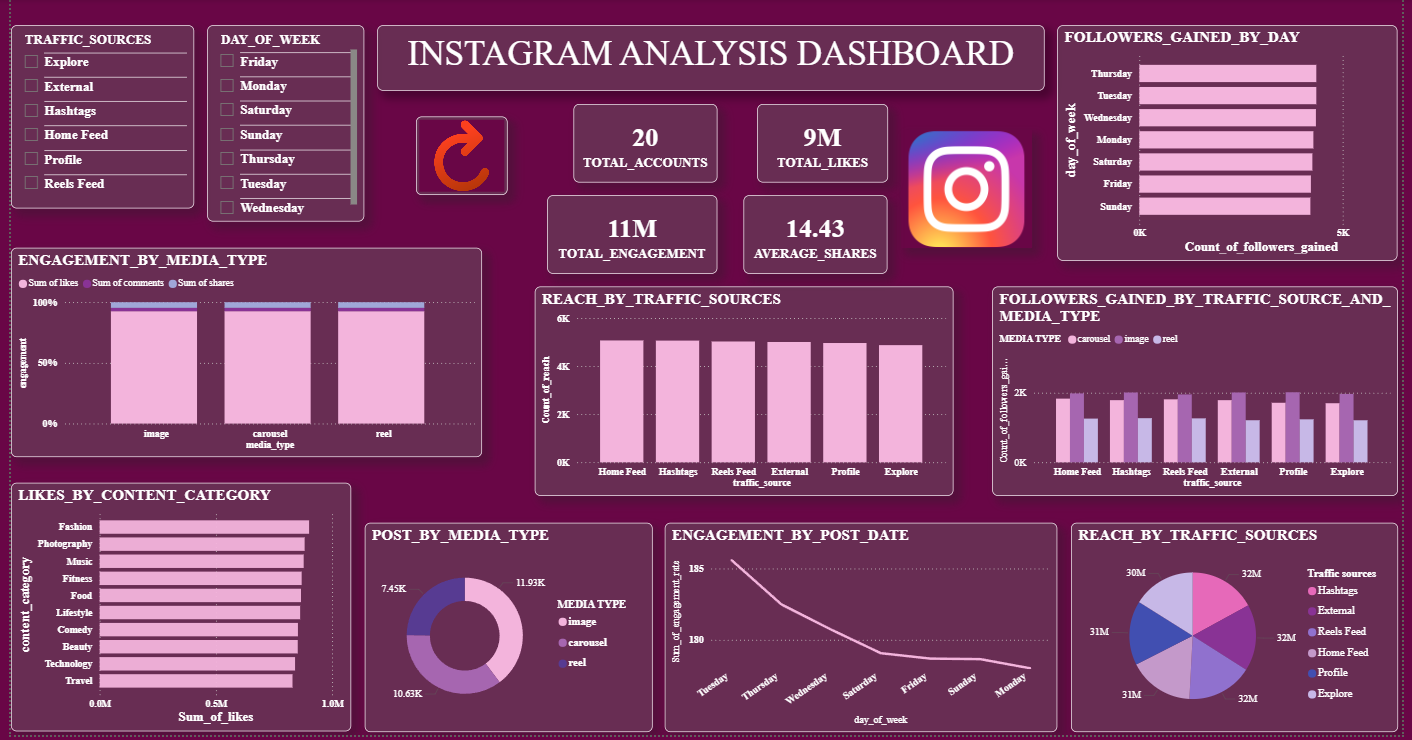

What the dashboard file says about the page in this screenshot:
{"tool":"powerbi","page":{"name":"Page 1","canvas":[1700,900],"ordinal":0},"visuals":[{"type":"textbox","box":[448,32,816,80],"z":0},{"type":"card","fields":{"Values":["Instagram_Analytics.COUNT"]},"box":[896,240,176,96],"z":1000},{"type":"card","fields":{"Values":["Instagram_Analytics.TOTAL ACCOUNTS"]},"box":[688,128,176,96],"z":2000},{"type":"barChart","title":"LIKES_BY_CONTENT_CATEGORY","fields":{"Y":["Sum(Instagram_Analytics.likes)"],"Category":["Instagram_Analytics.content_category"]},"box":[0,592,416,304],"z":3000},{"type":"clusteredColumnChart","title":"FOLLOWERS_GAINED_BY_TRAFFIC_SOURCE_AND_MEDIA_TYPE","fields":{"Category":["Instagram_Analytics.traffic_source"],"Y":["CountNonNull(Instagram_Analytics.followers_gained)"],"Series":["Instagram_Analytics.media_type"]},"box":[1200,352,496,256],"z":4000},{"type":"lineChart","title":"ENGAGEMENT_BY_POST_DATE","fields":{"Y":["Sum(Instagram_Analytics.engagement_rate)"],"Category":["Instagram_Analytics.day_of_week"]},"box":[800,640,480,256],"z":5000},{"type":"slicer","fields":{"Values":["Instagram_Analytics.traffic_source"]},"box":[0,32,224,224],"z":6000},{"type":"pieChart","title":"REACH_BY_TRAFFIC_SOURCES","fields":{"Category":["Instagram_Analytics.traffic_source"],"Y":["Sum(Instagram_Analytics.reach)"]},"box":[1296,640,400,256],"z":7000},{"type":"donutChart","title":"POST_BY_MEDIA_TYPE","fields":{"Y":["CountNonNull(Instagram_Analytics.post_id)"],"Category":["Instagram_Analytics.media_type"]},"box":[432,640,352,256],"z":8000},{"type":"image","box":[1088,160,160,144],"z":9000},{"type":"card","fields":{"Values":["Instagram_Analytics.TOTAL LIKES"]},"box":[912,128,160,96],"z":10000},{"type":"columnChart","title":"REACH_BY_TRAFFIC_SOURCES","fields":{"Y":["CountNonNull(Instagram_Analytics.reach)"],"Category":["Instagram_Analytics.traffic_source"]},"box":[640,352,512,256],"z":11000},{"type":"barChart","title":"FOLLOWERS_GAINED_BY_DAY","fields":{"Y":["CountNonNull(Instagram_Analytics.followers_gained)"],"Category":["Instagram_Analytics.day_of_week"]},"box":[1280,32,416,288],"z":12000},{"type":"card","fields":{"Values":["Instagram_Analytics.Total Engagement"]},"box":[656,240,208,96],"z":13000},{"type":"slicer","fields":{"Values":["Instagram_Analytics.day_of_week"]},"box":[240,32,192,240],"z":14000},{"type":"hundredPercentStackedColumnChart","title":"ENGAGEMENT_BY_MEDIA_TYPE","fields":{"Category":["Instagram_Analytics.media_type"],"Y":["Sum(Instagram_Analytics.likes)","Sum(Instagram_Analytics.comments)","Sum(Instagram_Analytics.shares)"]},"box":[0,304,576,256],"z":15000},{"type":"actionButton","box":[496,144,112,96],"z":16000}]}

Visuals, with their boxes in screenshot pixels (x1, y1, x2, y2), scaled from the page's 1700x900 canvas onto the 1412x740 screenshot:
textbox: <box>372,26,1050,92</box>
card - Instagram_Analytics.COUNT: <box>744,197,890,276</box>
card - Instagram_Analytics.TOTAL ACCOUNTS: <box>571,105,718,184</box>
"LIKES_BY_CONTENT_CATEGORY" barChart: <box>0,487,346,737</box>
"FOLLOWERS_GAINED_BY_TRAFFIC_SOURCE_AND_MEDIA_TYPE" clusteredColumnChart: <box>997,289,1409,500</box>
"ENGAGEMENT_BY_POST_DATE" lineChart: <box>664,526,1063,737</box>
slicer - Instagram_Analytics.traffic_source: <box>0,26,186,210</box>
"REACH_BY_TRAFFIC_SOURCES" pieChart: <box>1076,526,1409,737</box>
"POST_BY_MEDIA_TYPE" donutChart: <box>359,526,651,737</box>
image: <box>904,132,1037,250</box>
card - Instagram_Analytics.TOTAL LIKES: <box>757,105,890,184</box>
"REACH_BY_TRAFFIC_SOURCES" columnChart: <box>532,289,957,500</box>
"FOLLOWERS_GAINED_BY_DAY" barChart: <box>1063,26,1409,263</box>
card - Instagram_Analytics.Total Engagement: <box>545,197,718,276</box>
slicer - Instagram_Analytics.day_of_week: <box>199,26,359,224</box>
"ENGAGEMENT_BY_MEDIA_TYPE" hundredPercentStackedColumnChart: <box>0,250,478,460</box>
actionButton: <box>412,118,505,197</box>
